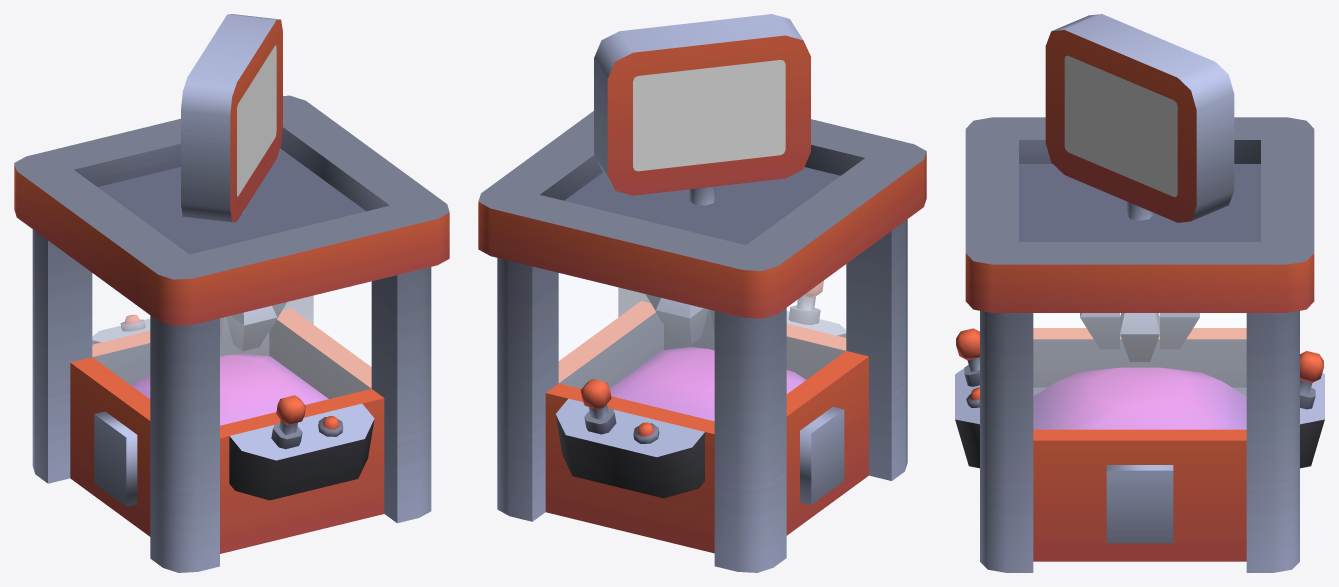
The model's file is claw-machine-transformed.glb.
3 views of the same model, side by side, from view 1: azimuth 30°, elevation 25°; view 2: azimuth 150°, elevation 25°; view 3: azimuth 270°, elevation 25° (orthographic). The views are drawn at different scales.
Parts seen in each view (by area): view 1: claw-machine, (_ignore), rotate-y; view 2: claw-machine, rotate-y, (_ignore); view 3: claw-machine, rotate-y, (_ignore).
Part boxes in pixels (bbox=[...]): claw-machine: bbox=[14, 95, 449, 572]; (_ignore): bbox=[92, 273, 371, 425]; rotate-y: bbox=[181, 14, 282, 222]; claw-machine: bbox=[478, 111, 926, 572]; rotate-y: bbox=[594, 14, 810, 195]; (_ignore): bbox=[558, 264, 846, 420]; claw-machine: bbox=[955, 117, 1324, 572]; rotate-y: bbox=[1045, 14, 1234, 222]; (_ignore): bbox=[1033, 313, 1246, 429].
Bounding box in the file's own units: 0.653 × 0.95 × 0.6932.
2 materials, 1 textured.
